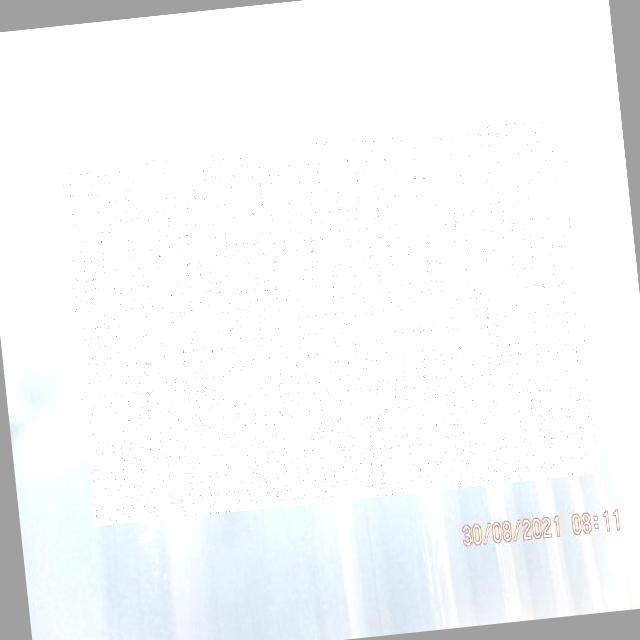Dent: (58, 117, 600, 526)
